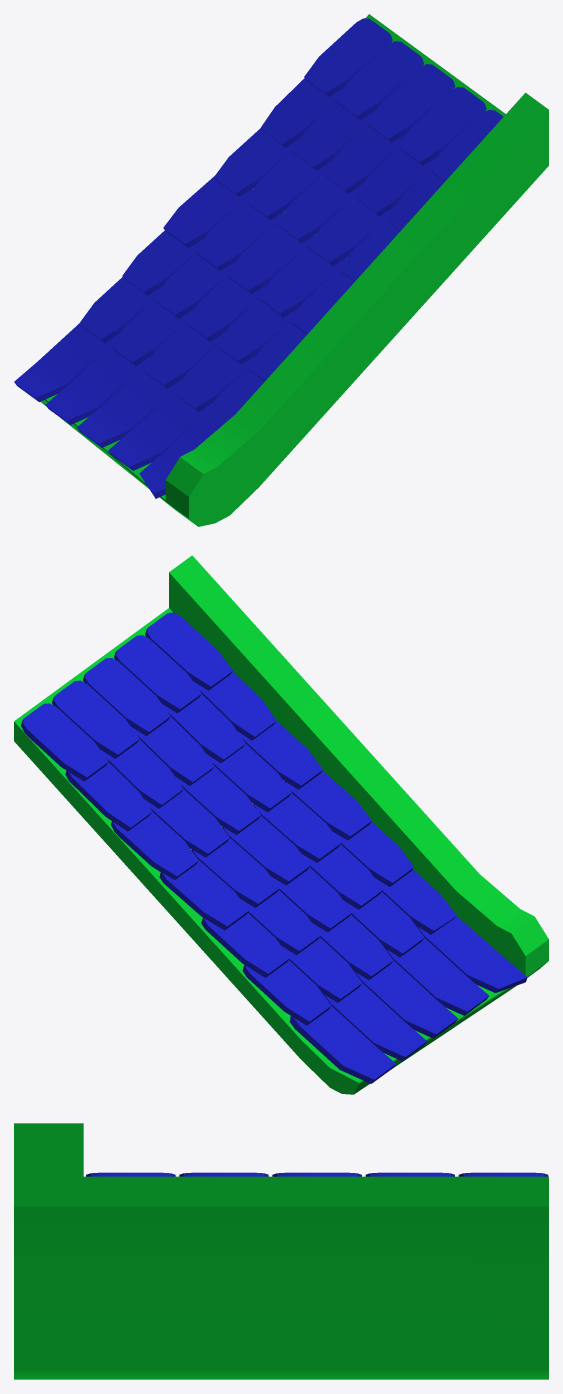
File: FrontRoof.fbx
3 views of the same model, one above another, from view 1: azimuth 30°, elevation 25°; view 2: azimuth 150°, elevation 25°; view 3: azimuth 270°, elevation 25° (orthographic). The views are drawn at different scales.
Parts seen in each view (by area): view 1: RoofFrontBottom (×2); view 2: RoofFrontBottom (×2); view 3: RoofFrontBottom (×2).
Boxes of the visible parts, left/top/right/bottom form: RoofFrontBottom (×2): left=14, top=14, right=548, bottom=526; RoofFrontBottom (×2): left=14, top=555, right=548, bottom=1094; RoofFrontBottom (×2): left=14, top=1123, right=548, bottom=1379.
Size of the model in its own units: 2.71 by 2.34 by 2.3.
